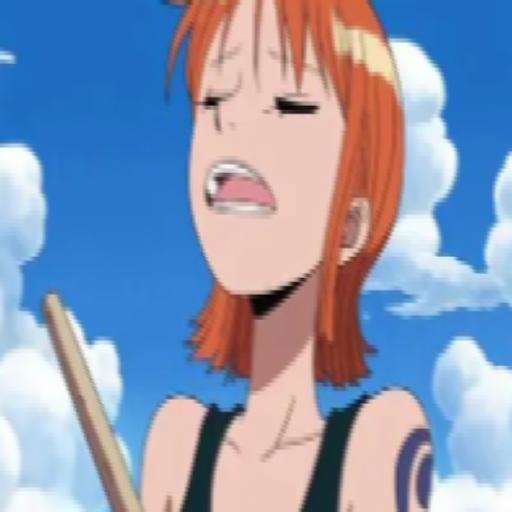Nami: (41, 0, 448, 512)
